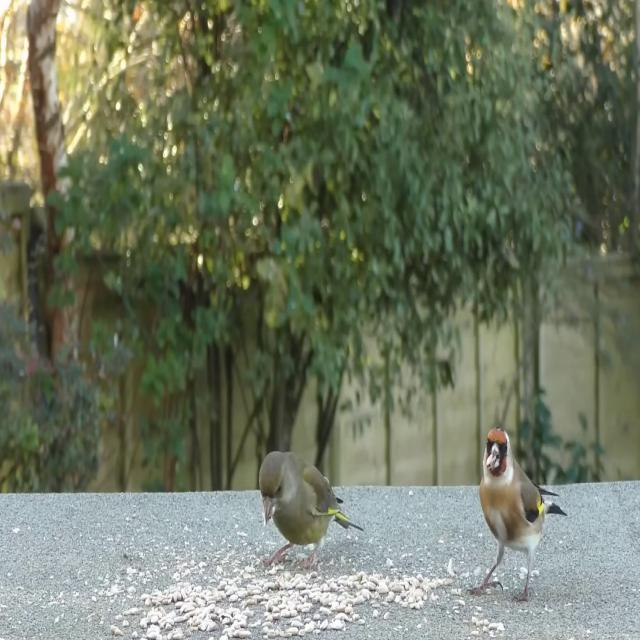beak: (259, 498, 278, 529), (485, 445, 502, 473)
bird: (468, 428, 570, 607), (254, 450, 366, 566)
